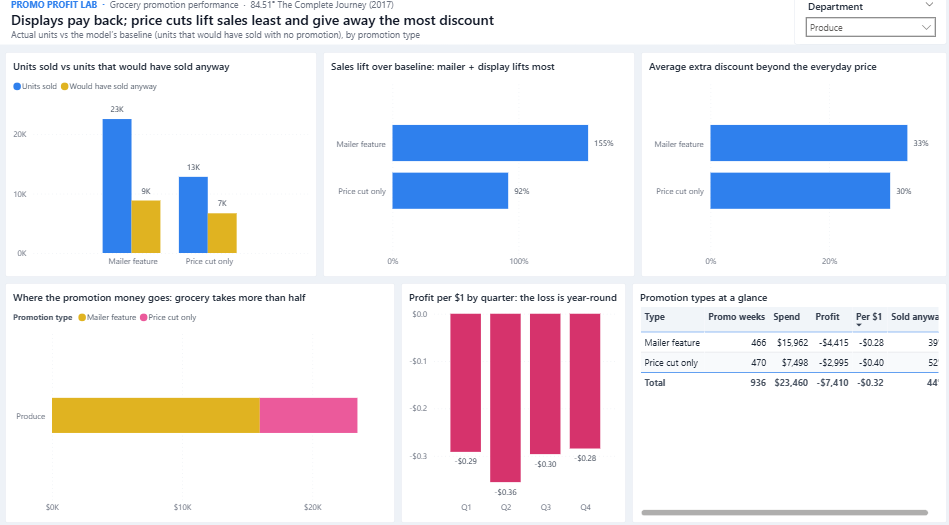

What the dashboard file says about the page in this screenshot:
{"tool":"powerbi","page":{"name":"Where the loss comes from","canvas":[1280,720],"ordinal":1},"visuals":[{"type":"textbox","box":[0,0,1072,70],"z":1000},{"type":"slicer","fields":{"Values":["fact_promo_event.group"]},"box":[1079.1,0,189,69.9],"z":2000},{"type":"clusteredColumnChart","title":"Units sold vs units that would have sold anyway","fields":{"Category":["fact_promo_event.promo_type"],"Y":["_Measures.Units Sold","_Measures.Baseline Units"]},"box":[12,80,416,300],"z":3000},{"type":"clusteredBarChart","title":"Sales lift over baseline: mailer + display lifts most","fields":{"Category":["fact_promo_event.promo_type"],"Y":["_Measures.Lift %"]},"box":[436,80,416,300],"z":4000},{"type":"clusteredBarChart","title":"Average extra discount beyond the everyday price","fields":{"Category":["fact_promo_event.promo_type"],"Y":["_Measures.Avg Extra Discount"]},"box":[860,80,408,300],"z":5000},{"type":"barChart","title":"Where the promotion money goes: grocery takes more than half","fields":{"Category":["fact_promo_event.group"],"Y":["_Measures.Promo Spend"],"Series":["fact_promo_event.promo_type"]},"box":[12,388,520,320],"z":6000},{"type":"clusteredColumnChart","title":"Profit per $1 by quarter: the loss is year-round","fields":{"Category":["dim_week.quarter"],"Y":["_Measures.Return per $1"]},"box":[540,388,300,320],"z":7000},{"type":"tableEx","title":"Promotion types at a glance","fields":{"Values":["fact_promo_event.promo_type","_Measures.Promoted Weeks","_Measures.Promo Spend","_Measures.Incremental GP","_Measures.Return per $1","_Measures.Subsidised Share"]},"box":[848,388,420,320],"z":8000}]}

Visuals, with their boxes in screenshot pixels (x1, y1, x2, y2), scaled from the page's 1280x720 canvas onto the 949x525 screenshot:
textbox: locate(0, 0, 795, 51)
slicer - fact_promo_event.group: locate(800, 0, 940, 51)
"Units sold vs units that would have sold anyway" clusteredColumnChart: locate(9, 58, 317, 277)
"Sales lift over baseline: mailer + display lifts most" clusteredBarChart: locate(323, 58, 632, 277)
"Average extra discount beyond the everyday price" clusteredBarChart: locate(638, 58, 940, 277)
"Where the promotion money goes: grocery takes more than half" barChart: locate(9, 283, 394, 516)
"Profit per $1 by quarter: the loss is year-round" clusteredColumnChart: locate(400, 283, 623, 516)
"Promotion types at a glance" tableEx: locate(629, 283, 940, 516)
